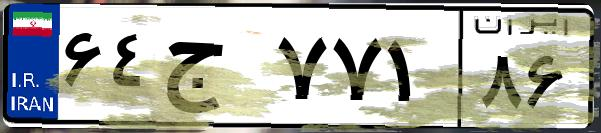1: (385, 28, 445, 110)
4: (110, 28, 158, 98)
6: (57, 26, 110, 100), (525, 38, 570, 115)
7: (270, 28, 330, 110), (330, 28, 385, 110)
8: (475, 38, 525, 113)
ج: (158, 20, 270, 120)
